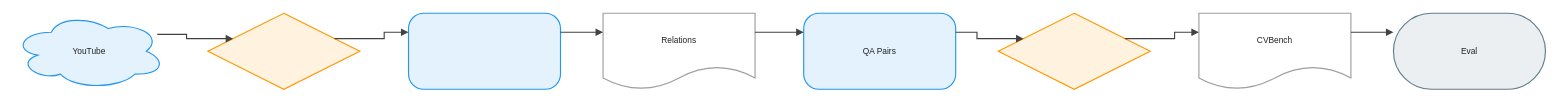
The diagram is 1560 pixels wide and 103 high, and some of its shapes have lost their labels. Each missing label, with the centre of its shape:
Captions: pixel 484 51
Human QC: pixel 1073 51
Video QC: pixel 283 51
